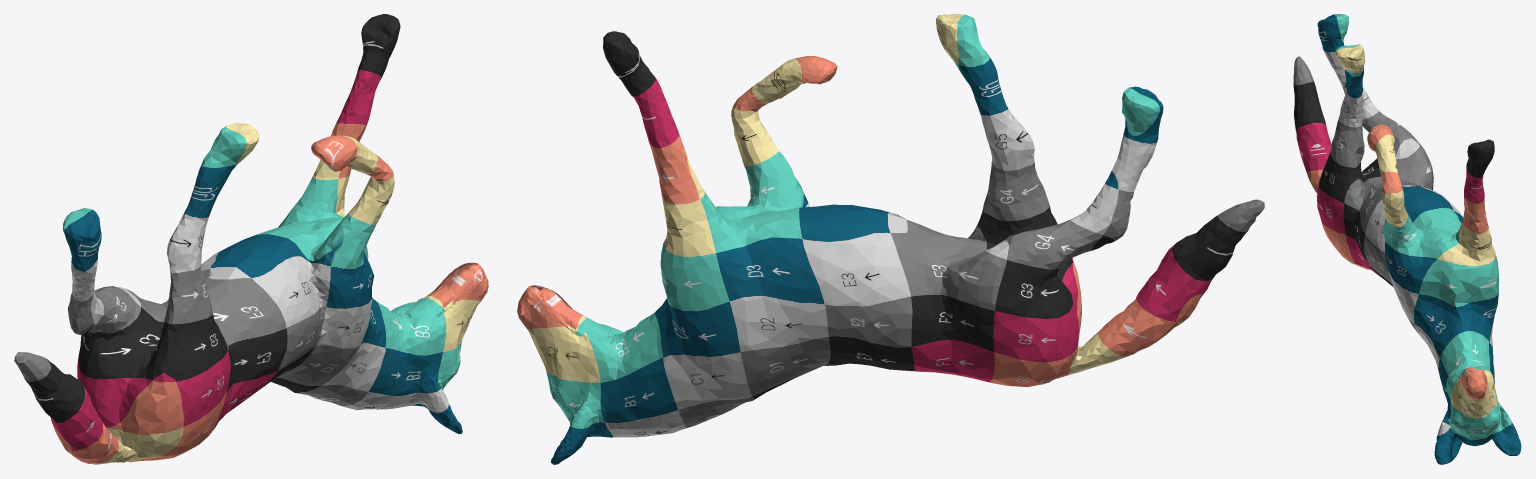
Rendered from horse_03-horse_07.obj.
3 views of the same model, side by side, from view 1: azimuth 30°, elevation 25°; view 2: azimuth 150°, elevation 25°; view 3: azimuth 270°, elevation 25° (orthographic). The views are drawn at different scales.
Parts seen in each view (by area): view 1: horse_03-horse_07_export; view 2: horse_03-horse_07_export; view 3: horse_03-horse_07_export.
Boxes of the visible parts, left/top/right/bottom form: horse_03-horse_07_export: left=14, top=14, right=488, bottom=464; horse_03-horse_07_export: left=517, top=14, right=1264, bottom=464; horse_03-horse_07_export: left=1293, top=14, right=1521, bottom=464.
Size of the model in its own units: 1.11 by 0.7505 by 0.4933.
